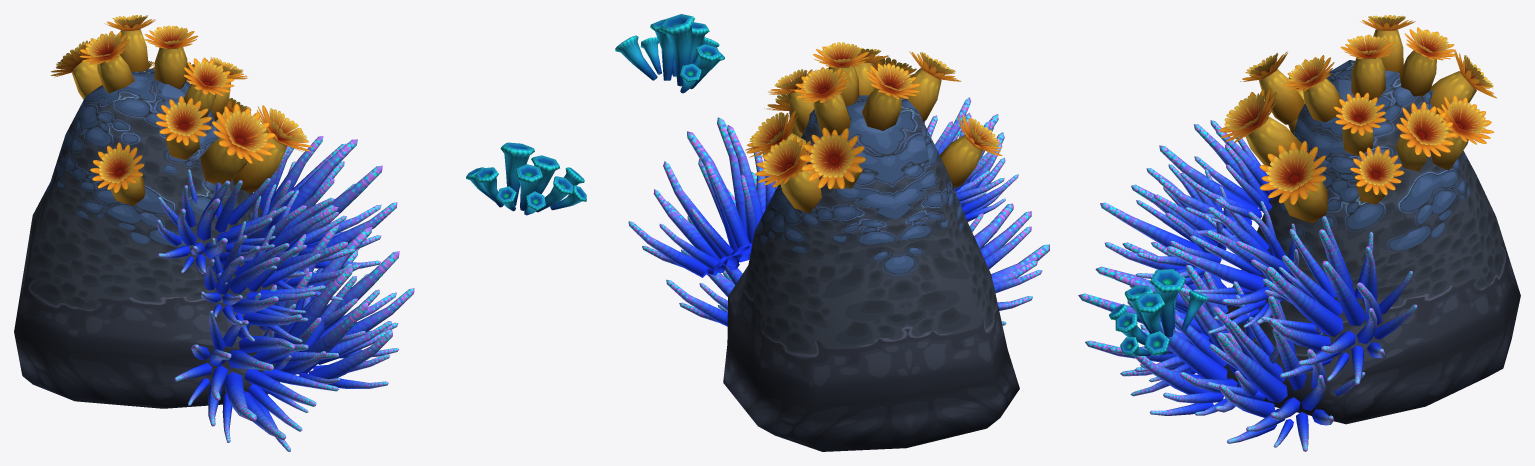
Rendered from CoralSet_04.FBX.
3 views of the same model, side by side, from view 1: azimuth 30°, elevation 25°; view 2: azimuth 150°, elevation 25°; view 3: azimuth 270°, elevation 25° (orthographic). The views are drawn at different scales.
Visible parts, largest first — view 1: Box021, Line264, Line248, Line270, Line379; view 2: Box021, Line248, Line264, Line379, Line270; view 3: Box021, Line264, Line248, Line270, Line379.
Boxes of the visible parts, left/top/right/bottom form: Box021: left=14, top=68, right=301, bottom=408; Line264: left=174, top=136, right=414, bottom=451; Line248: left=51, top=15, right=311, bottom=205; Line270: left=156, top=169, right=286, bottom=284; Line379: left=466, top=142, right=586, bottom=215; Box021: left=723, top=95, right=1019, bottom=451; Line248: left=745, top=42, right=1002, bottom=212; Line264: left=628, top=113, right=1049, bottom=326; Line379: left=615, top=14, right=724, bottom=93; Line270: left=924, top=97, right=1004, bottom=204; Box021: left=1224, top=60, right=1520, bottom=424; Line264: left=1078, top=164, right=1417, bottom=451; Line248: left=1219, top=15, right=1496, bottom=223; Line270: left=1158, top=120, right=1277, bottom=235; Line379: left=1109, top=269, right=1208, bottom=356.
Size of the model in its own units: 12381 by 8762 by 9904.
